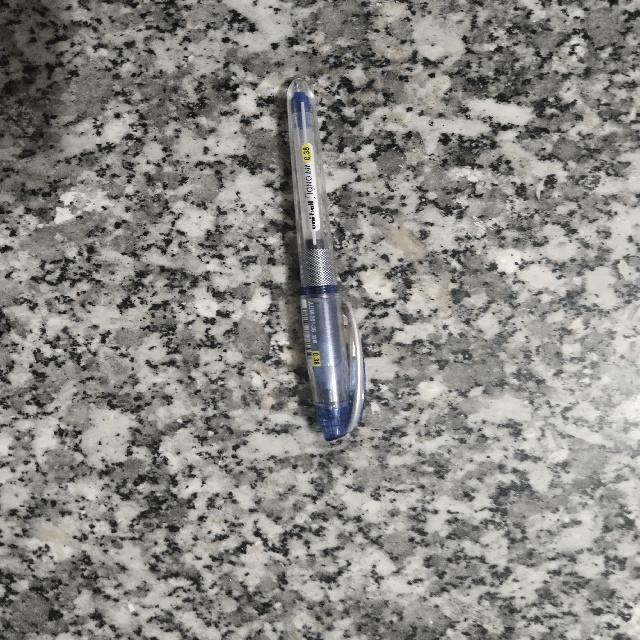pen: (287, 78, 364, 440)
